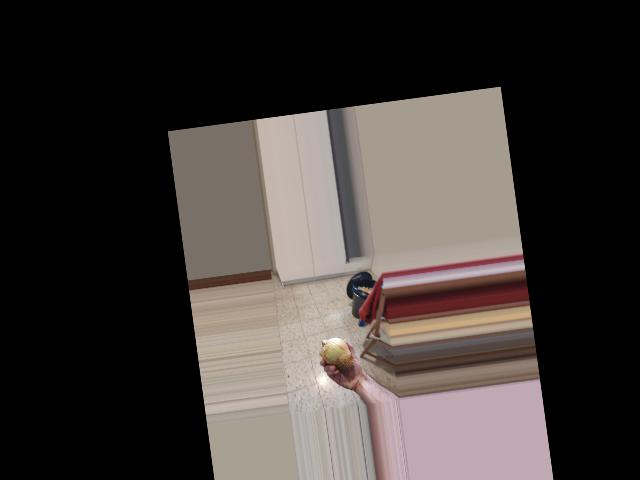onion: (319, 334, 354, 370)
